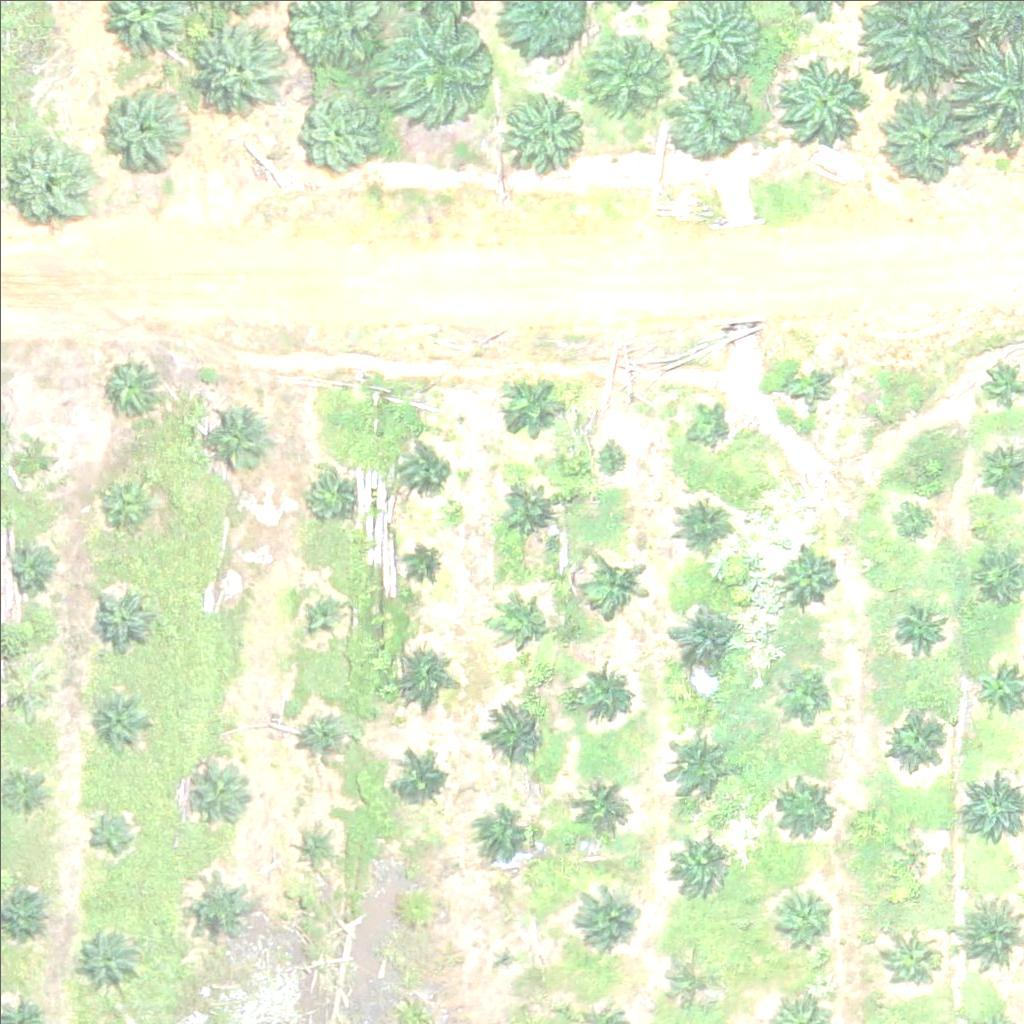Kelapa_Sawit: (369, 3, 494, 129), (187, 15, 287, 116), (9, 139, 97, 227), (670, 76, 757, 164), (97, 79, 184, 167), (879, 86, 966, 174), (781, 60, 868, 148), (580, 30, 667, 118), (494, 87, 581, 175), (293, 83, 380, 171), (566, 643, 641, 719), (663, 724, 738, 800), (570, 871, 645, 947), (562, 769, 637, 845), (195, 401, 270, 477), (574, 541, 649, 617), (665, 593, 740, 668), (177, 763, 240, 826), (188, 879, 251, 942), (473, 807, 536, 870), (888, 705, 951, 768), (883, 598, 946, 661), (496, 377, 559, 440), (669, 487, 732, 550), (497, 482, 560, 545), (777, 539, 840, 602), (90, 691, 153, 754), (90, 586, 153, 649), (97, 354, 160, 417), (97, 472, 160, 535), (388, 645, 450, 708), (389, 745, 451, 808), (771, 775, 833, 838), (484, 700, 547, 762), (668, 833, 730, 896), (769, 880, 831, 943), (879, 926, 941, 989), (79, 929, 141, 992), (10, 547, 60, 598), (84, 811, 134, 862), (677, 401, 727, 452), (783, 359, 833, 410), (884, 492, 934, 543), (501, 603, 551, 653), (782, 670, 832, 720), (400, 440, 450, 490), (300, 473, 350, 523), (6, 432, 56, 482), (298, 714, 348, 764), (667, 953, 717, 1003), (293, 828, 331, 866), (303, 590, 341, 628), (594, 436, 632, 474), (396, 888, 434, 926), (409, 539, 446, 577), (890, 834, 927, 872), (489, 947, 514, 972)
